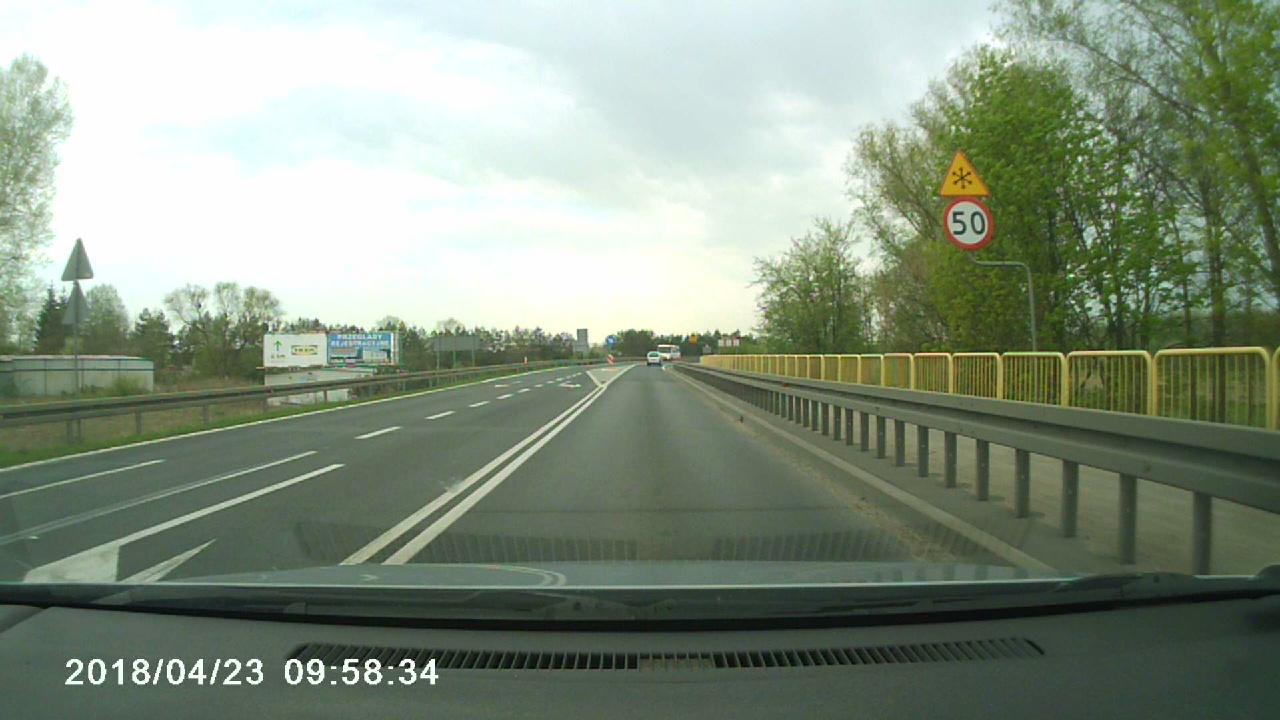A32: (940, 151, 990, 196)
B33_50: (944, 197, 994, 249)
